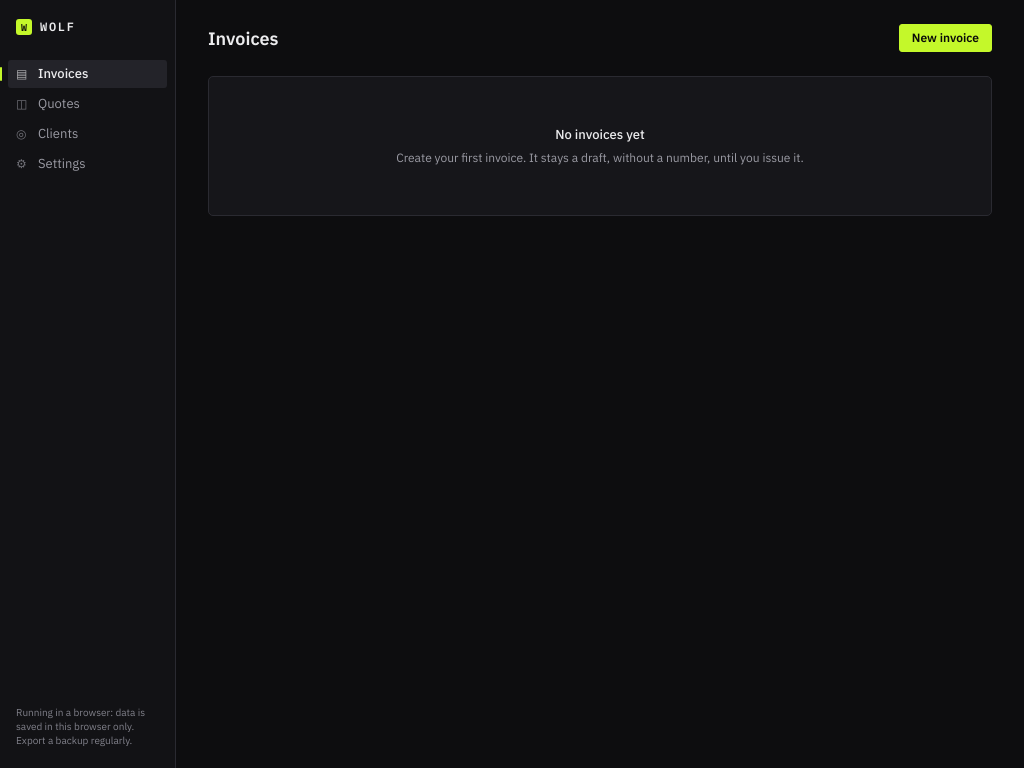
Test case: clients › edits a client
Step 1. Click the button "◎ Clients" → (88, 134), box [8,120,167,148]
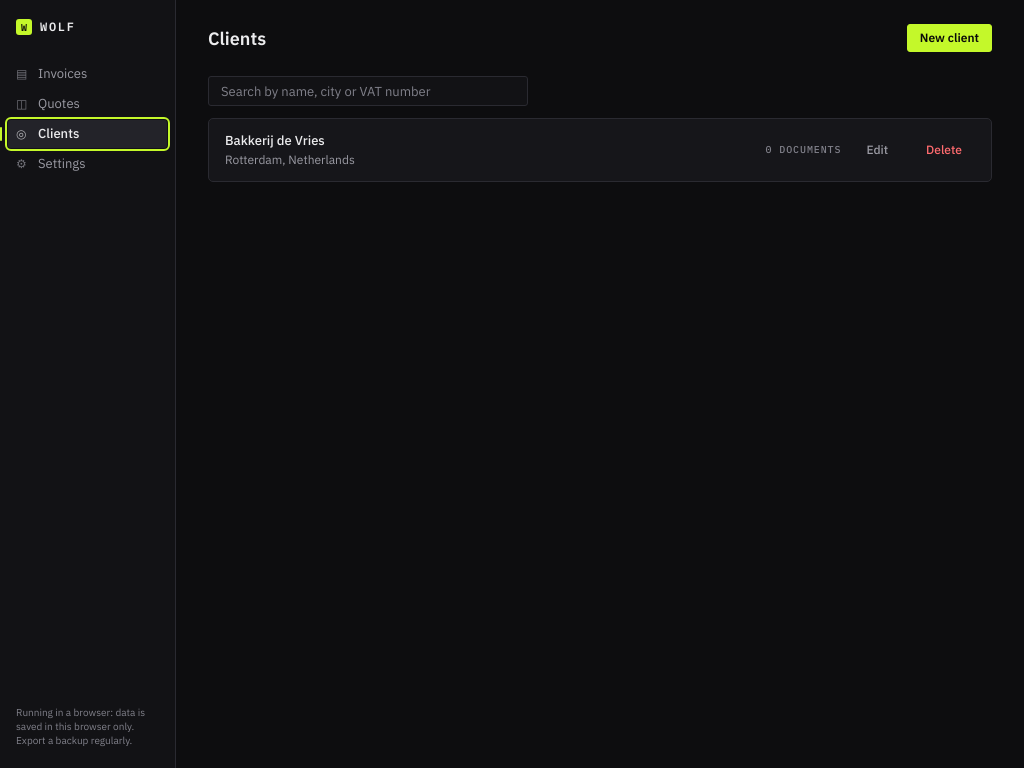
Step 2. Click the button with aria-label "Edit Bakkerij de Vries" → (877, 150), box [853,136,901,164]
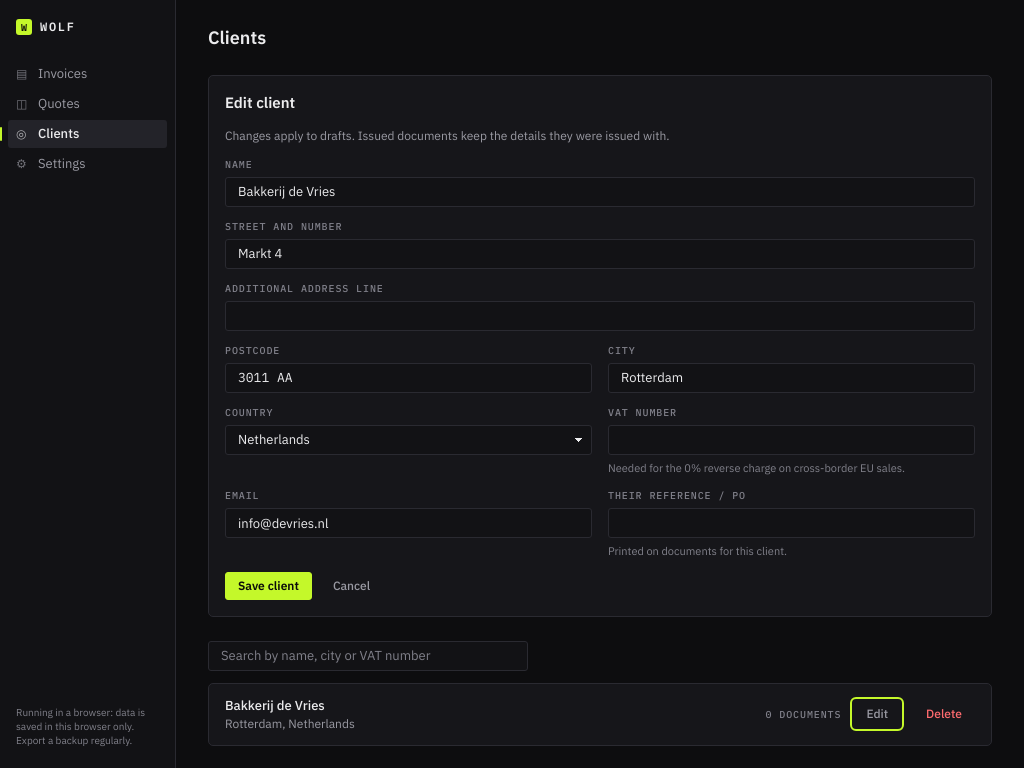
Step 3. Replace the text in the field labelled "Name" with "De Vries BV" → (600, 192), box [225,176,975,206]
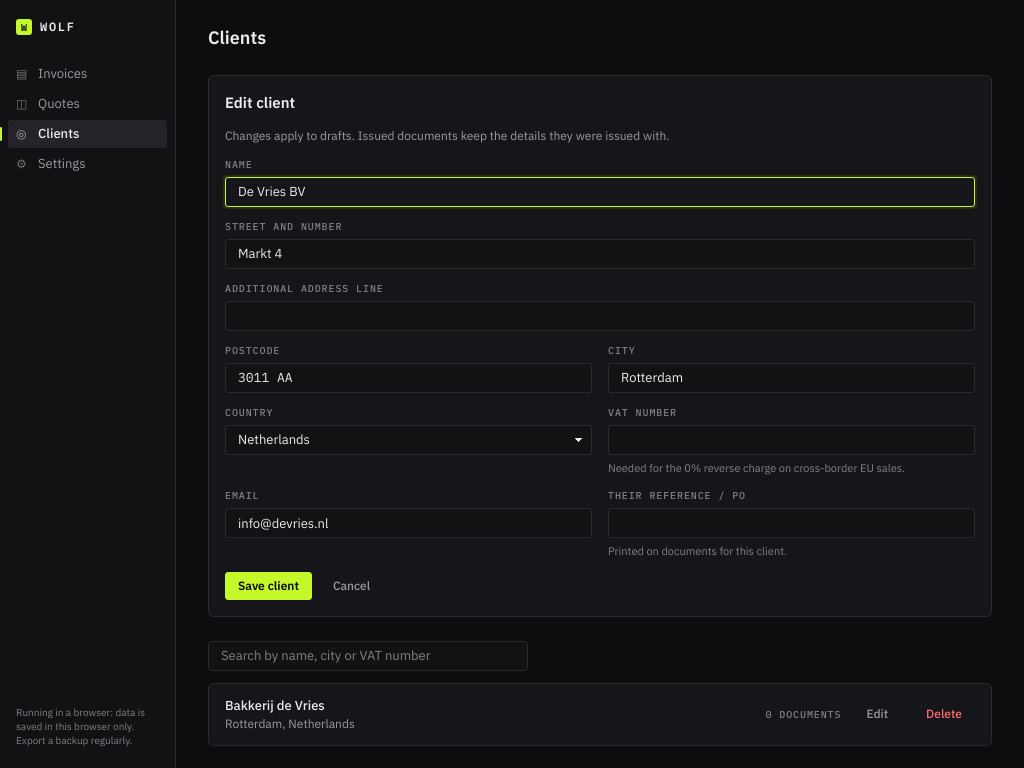
Step 4. Click the button "Save client" → (268, 586), box [225,572,312,600]
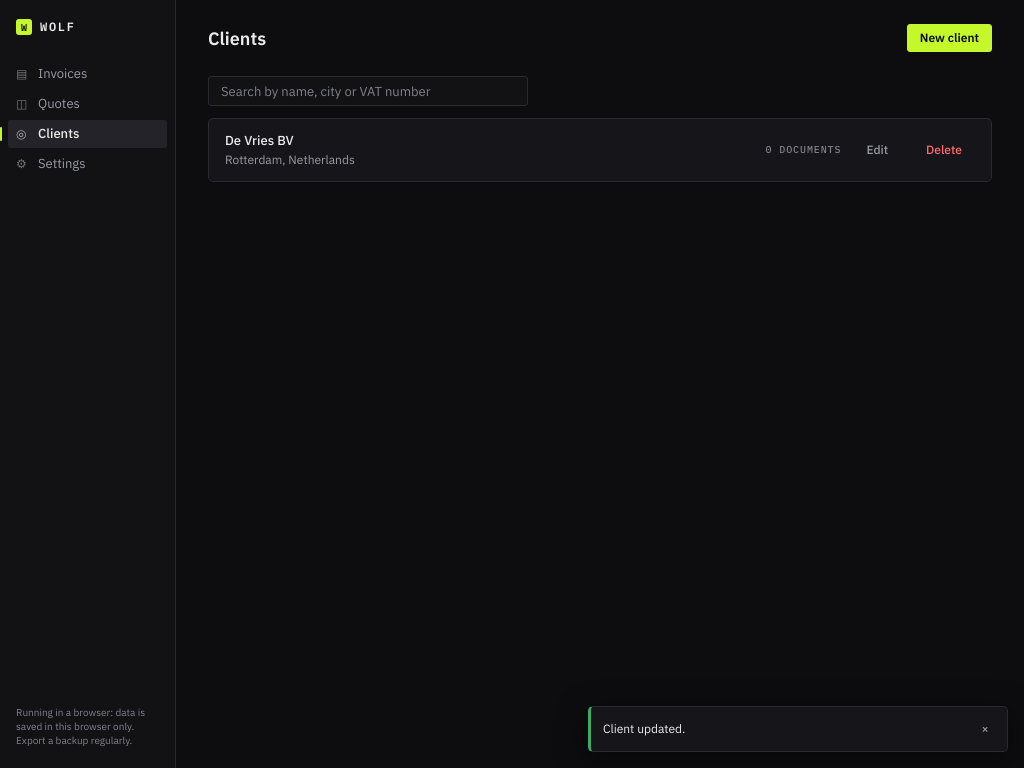
Result: the text "De Vries BV" is shown at [225,132,294,149]
